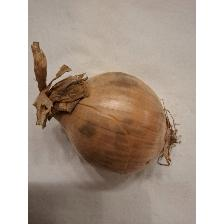Zwiebel: (31, 38, 186, 178)
